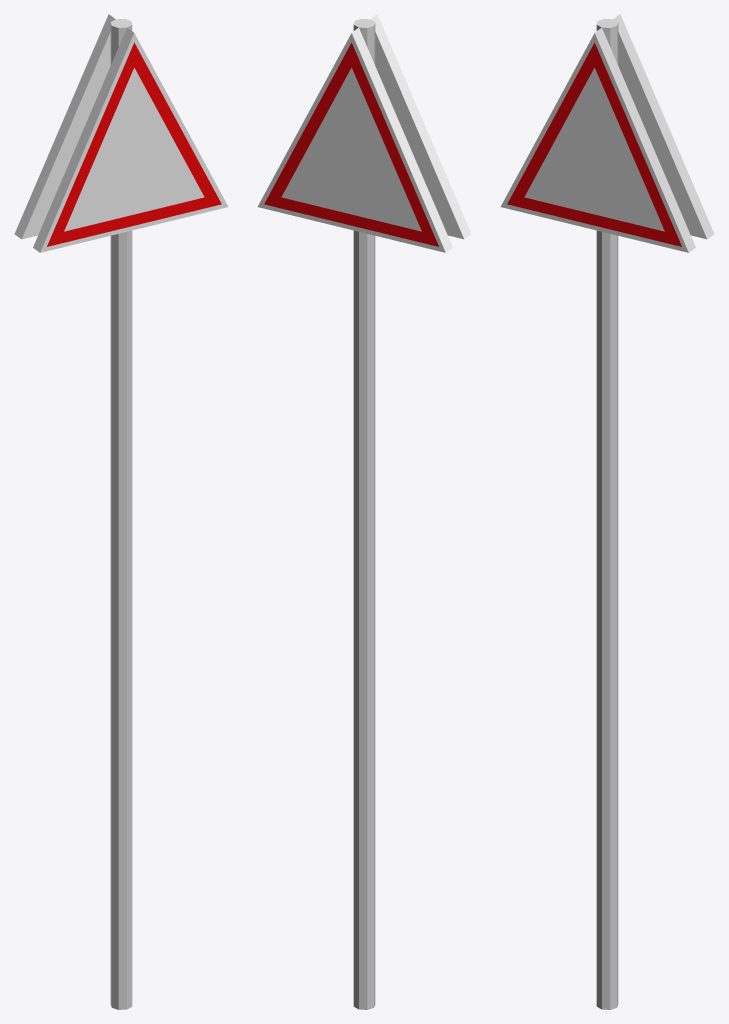
File: roadSignWarn.fbx
3 views of the same model, side by side, from view 1: azimuth 30°, elevation 25°; view 2: azimuth 150°, elevation 25°; view 3: azimuth 330°, elevation 25° (orthographic).
Parts seen in each view (by area): view 1: Cube, Cylinder; view 2: Cube, Cylinder; view 3: Cube, Cylinder.
Boxes of the visible parts, <box> form: Cube: <box>14,14,228,252</box>; Cylinder: <box>110,18,132,1009</box>; Cube: <box>257,14,471,252</box>; Cylinder: <box>353,18,375,1009</box>; Cube: <box>500,14,714,252</box>; Cylinder: <box>596,18,618,1009</box>.
Size of the model in its own units: 200 by 996 by 47.19.
